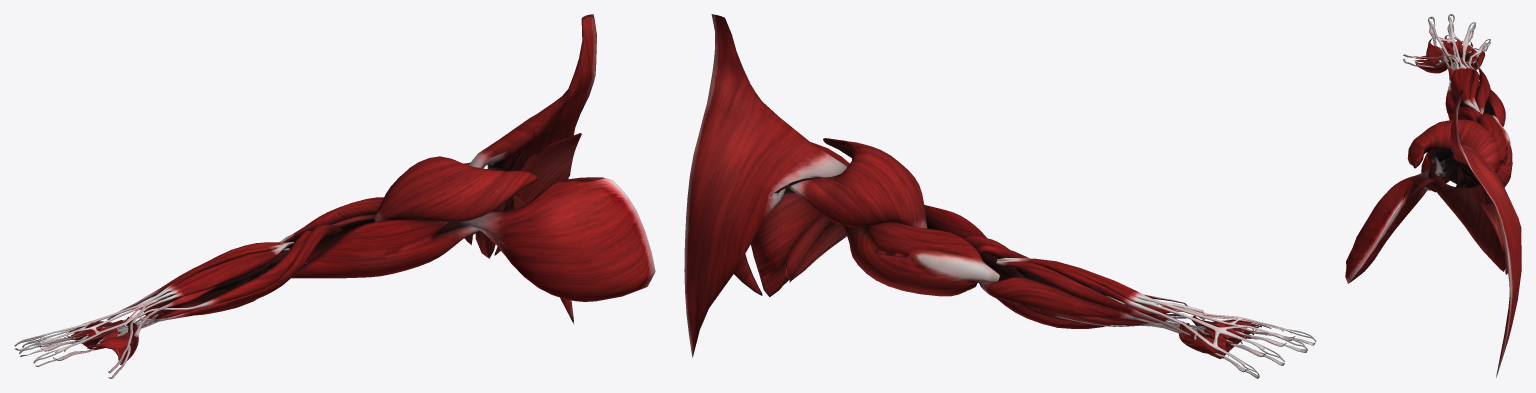
The model's file is MusclesExport.obj.
3 views of the same model, side by side, from view 1: azimuth 30°, elevation 25°; view 2: azimuth 150°, elevation 25°; view 3: azimuth 270°, elevation 25° (orthographic). The views are drawn at different scales.
Visible parts, largest first — view 1: Muscles Pectoral_Muscle_Right, Muscles Deltoideus_Muscle_Right, Muscles Biceps_Brachii_Right, Muscles Trapezius_Muscle_Right, Muscles Extensor_Digitorum_Muscle_Right, Muscles Rhomboid_Major_Muscle_Right, Muscles Brachioradialis_Muscle_Right, Muscles Extensor_Carpi_Radialis_Longus_Muscle_Right, Muscles Tricep_Mucsle_Right, Muscles Flexor_Digitorum_Profundus_Muscle_Right, Tricep_Muscle_Right1 Muscles, Muscles Extensor_Carpi_Ulnaris_Muscle_Right (+2 smaller); view 2: Muscles Trapezius_Muscle_Right, Muscles Tricep_Mucsle_Right, Muscles Deltoideus_Muscle_Right, Muscles Extensor_Digitorum_Muscle_Right, Muscles Infraspinatus_Muscle_Right, Muscles Flexor_Carpi_Ulnaris_Muscle_Right, Muscles Extensor_Carpi_Ulnaris_Muscle_Right, Muscles Biceps_Brachii_Right, Muscles Teres_Minor_Muscle_Right, Muscles Flexor_Digitorum_Profundus_Muscle_Right, Muscles Flexor_Carpi_Radialis_Muscle_Right, Muscles Teres_Major_Muscle_Right (+3 smaller); view 3: Muscles Trapezius_Muscle_Right, Muscles Pectoral_Muscle_Right, Muscles Subscapularis_Muscle_Right, Muscles Deltoideus_Muscle_Right, Muscles Extensor_Digitorum_Muscle_Right, Muscles Tricep_Mucsle_Right, Muscles Biceps_Brachii_Right, Muscles Extensor_Carpi_Ulnaris_Muscle_Right, Muscles Rhomboid_Major_Muscle_Right, Muscles Flexor_Digitorum_Profundus_Muscle_Right, Muscles Flexor_Carpi_Ulnaris_Muscle_Right, Muscles Extensor_Carpi_Radialis_Longus_Muscle_Right (+8 smaller).
Part boxes in pixels (x1,y1,x2,y2): Muscles Pectoral_Muscle_Right: (449,177,655,301); Muscles Deltoideus_Muscle_Right: (374,156,537,221); Muscles Biceps_Brachii_Right: (268,219,479,278); Muscles Trapezius_Muscle_Right: (469,14,596,324); Muscles Extensor_Digitorum_Muscle_Right: (14,241,294,363); Muscles Rhomboid_Major_Muscle_Right: (494,133,581,255); Muscles Brachioradialis_Muscle_Right: (139,224,342,321); Muscles Extensor_Carpi_Radialis_Longus_Muscle_Right: (124,231,312,326); Muscles Tricep_Mucsle_Right: (279,197,383,248); Muscles Flexor_Digitorum_Profundus_Muscle_Right: (15,263,271,366); Tricep_Muscle_Right1 Muscles: (289,214,375,261); Muscles Extensor_Carpi_Ulnaris_Muscle_Right: (107,242,286,319); Muscles Trapezius_Muscle_Right: (684,14,846,357); Muscles Tricep_Mucsle_Right: (842,222,999,296); Muscles Deltoideus_Muscle_Right: (789,138,927,228); Muscles Extensor_Digitorum_Muscle_Right: (997,257,1316,375); Muscles Infraspinatus_Muscle_Right: (751,191,822,277); Muscles Flexor_Carpi_Ulnaris_Muscle_Right: (979,277,1181,333); Muscles Extensor_Carpi_Ulnaris_Muscle_Right: (996,261,1190,335); Muscles Biceps_Brachii_Right: (833,174,1033,280); Muscles Teres_Minor_Muscle_Right: (785,215,831,277); Muscles Flexor_Digitorum_Profundus_Muscle_Right: (1105,309,1315,378); Muscles Flexor_Carpi_Radialis_Muscle_Right: (996,298,1192,328); Muscles Teres_Major_Muscle_Right: (789,222,846,282); Muscles Trapezius_Muscle_Right: (1450,90,1521,377); Muscles Pectoral_Muscle_Right: (1345,159,1446,283); Muscles Subscapularis_Muscle_Right: (1428,163,1504,271); Muscles Deltoideus_Muscle_Right: (1407,119,1500,172); Muscles Extensor_Digitorum_Muscle_Right: (1428,14,1490,114); Muscles Tricep_Mucsle_Right: (1459,113,1512,187); Muscles Biceps_Brachii_Right: (1421,149,1454,190); Muscles Extensor_Carpi_Ulnaris_Muscle_Right: (1475,59,1490,114); Muscles Rhomboid_Major_Muscle_Right: (1480,202,1507,274); Muscles Flexor_Digitorum_Profundus_Muscle_Right: (1429,17,1492,114); Muscles Flexor_Carpi_Ulnaris_Muscle_Right: (1479,81,1505,126); Muscles Extensor_Carpi_Radialis_Longus_Muscle_Right: (1445,54,1481,119).
Bounding box in the file's own units: 9.7 × 5.19 × 2.91.
1 material, 1 textured.
